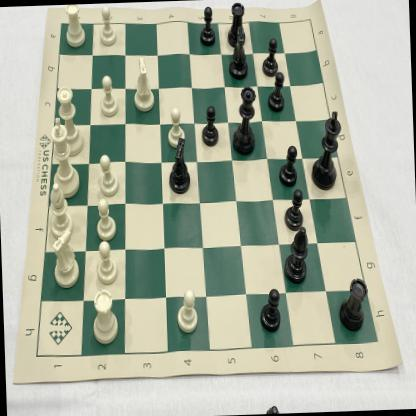bishop: (44, 180, 76, 240)
king: (308, 107, 344, 194), (47, 115, 82, 200)
knight: (280, 224, 314, 286), (48, 227, 80, 290), (165, 136, 193, 196), (129, 54, 157, 112), (226, 24, 250, 81)
pawn: (254, 285, 284, 333), (174, 285, 200, 335), (93, 238, 119, 286), (281, 186, 306, 233), (277, 142, 300, 190), (93, 197, 118, 241), (96, 154, 120, 199), (97, 74, 120, 120), (200, 101, 222, 148), (266, 71, 288, 114), (197, 4, 218, 49), (97, 4, 119, 46), (166, 105, 186, 149), (260, 36, 280, 78)
queen: (229, 82, 259, 160), (54, 84, 85, 158)
rook: (336, 274, 370, 334), (88, 286, 120, 346), (224, 0, 249, 50), (62, 4, 88, 49)
